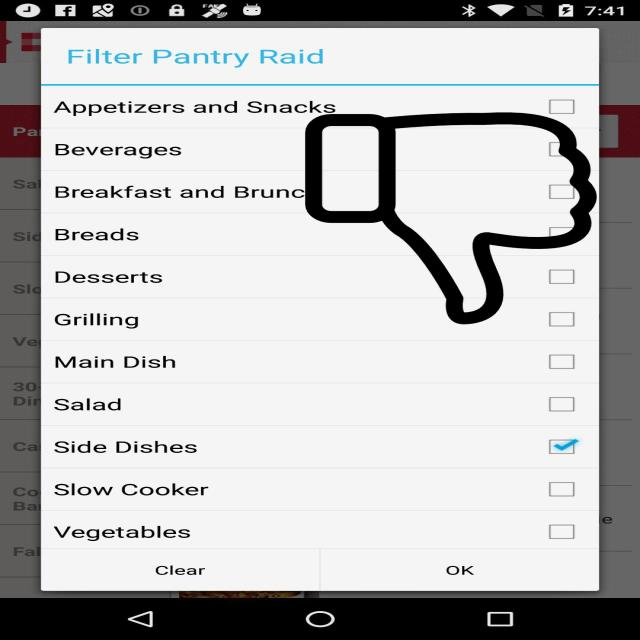obstruction: (301, 113, 601, 324)
